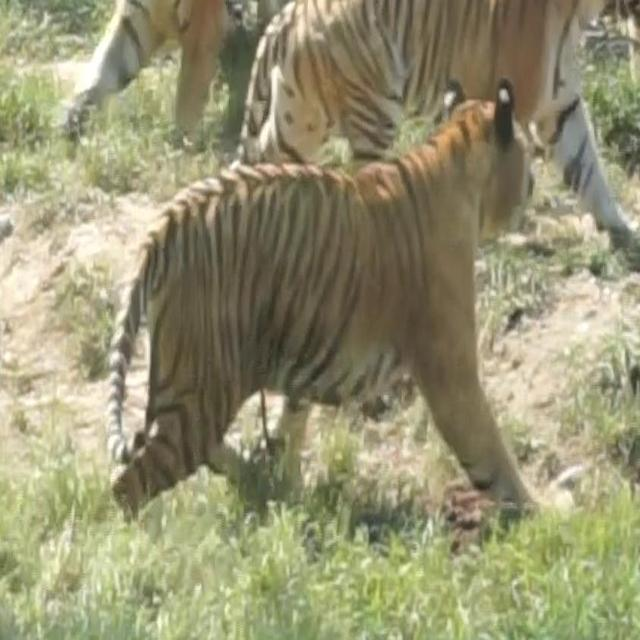tiger: (82, 66, 586, 564), (234, 1, 640, 281), (43, 0, 239, 156)
